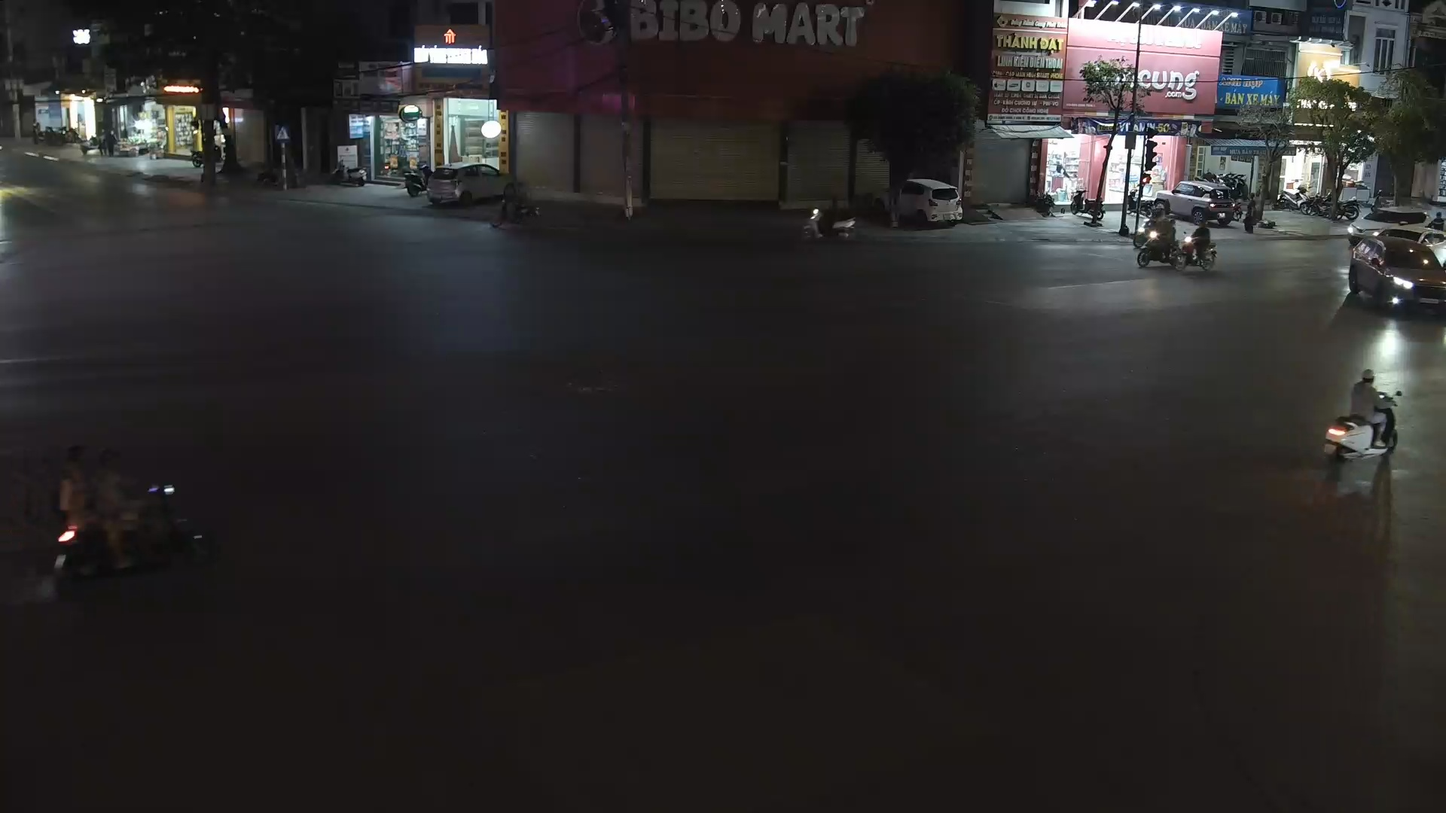car: (1347, 223, 1445, 316)
motorbike: (46, 439, 219, 601), (1321, 367, 1405, 473), (1133, 218, 1220, 274), (489, 177, 540, 229)
